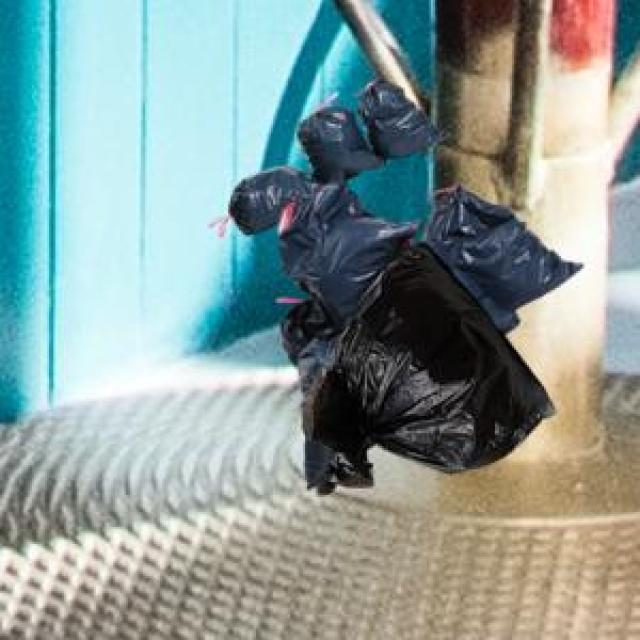Vinyl: (229, 80, 581, 488)
